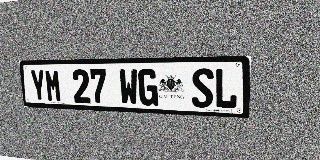2: (72, 69, 91, 103)
7: (89, 69, 108, 104)
G: (138, 69, 158, 106)
L: (214, 68, 238, 109)
M: (44, 69, 62, 102)
S: (191, 68, 214, 108)
W: (119, 69, 139, 105)
Y: (29, 69, 47, 102)
